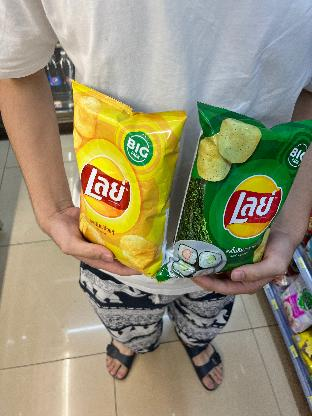Plastic Packaging: (160, 100, 312, 284), (64, 79, 189, 289)
